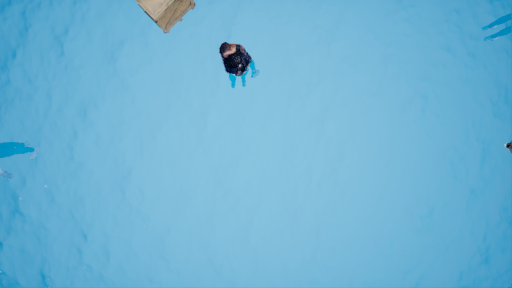person: (219, 41, 264, 93)
